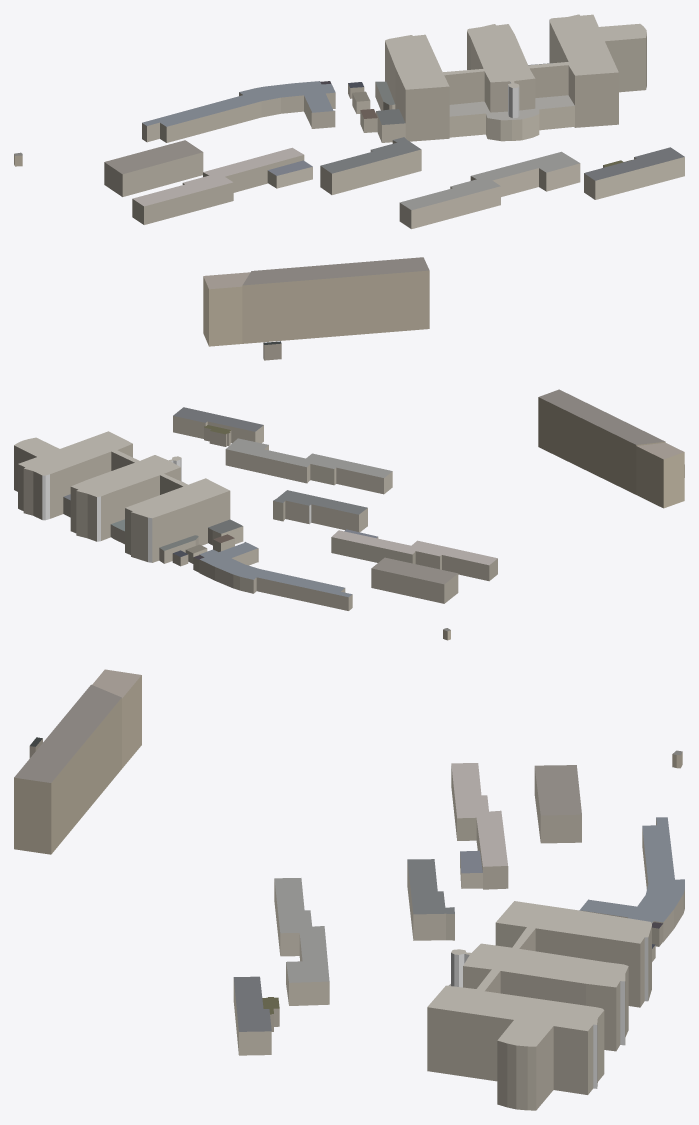
The picture shows the model from 3 angles, top to bottom: view 1: azimuth 30°, elevation 25°; view 2: azimuth 150°, elevation 25°; view 3: azimuth 270°, elevation 25°; orthographic projection. The views are drawn at different scales.
Parts seen in each view (by area): view 1: tuile; view 2: tuile; view 3: tuile.
Part boxes in pixels (x1,y1,x2,y2): tuile: (14, 14, 684, 360); tuile: (14, 389, 684, 640); tuile: (14, 669, 684, 1110).
Bounding box in the file's own units: 293 × 29.93 × 229.
